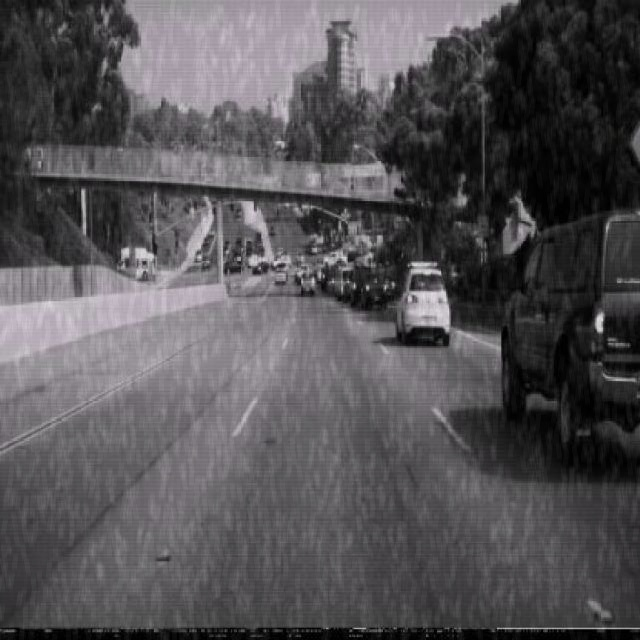signalAhead: (346, 172, 356, 192)
